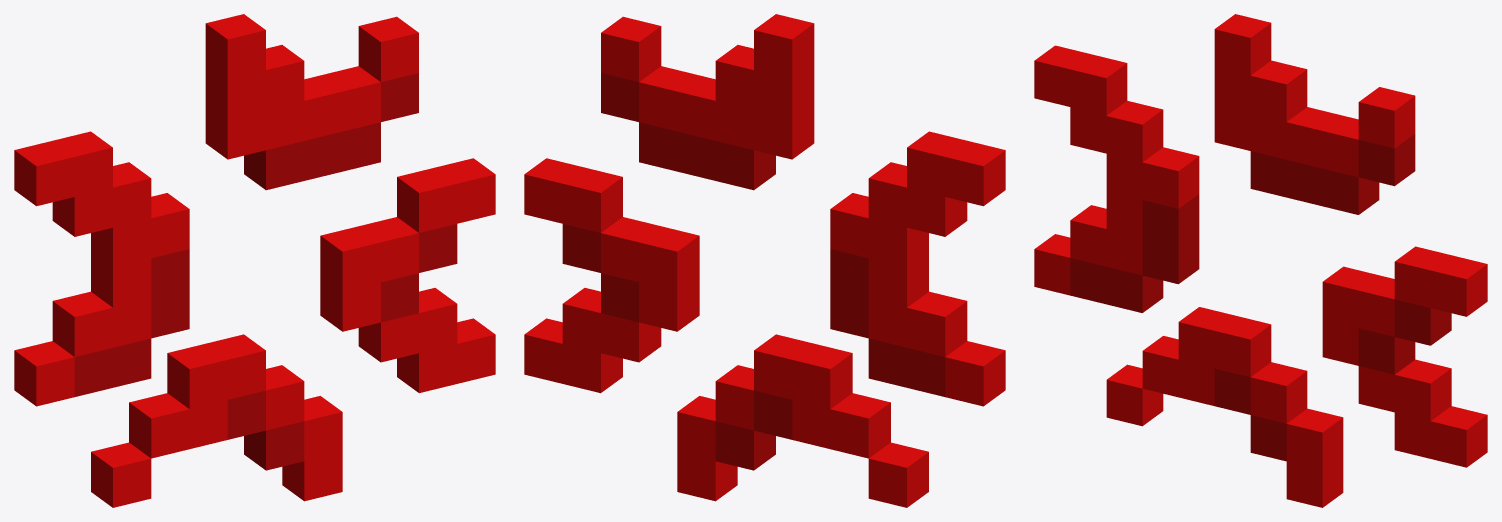
The model's file is angrymark.obj.
The picture shows the model from 3 angles, left to right: view 1: azimuth 30°, elevation 25°; view 2: azimuth 150°, elevation 25°; view 3: azimuth 330°, elevation 25°; orthographic projection. The views are drawn at different scales.
Bounding box in the file's own units: 1.2 × 1.2 × 0.1.
Materials: 1 (1 with a texture image).
